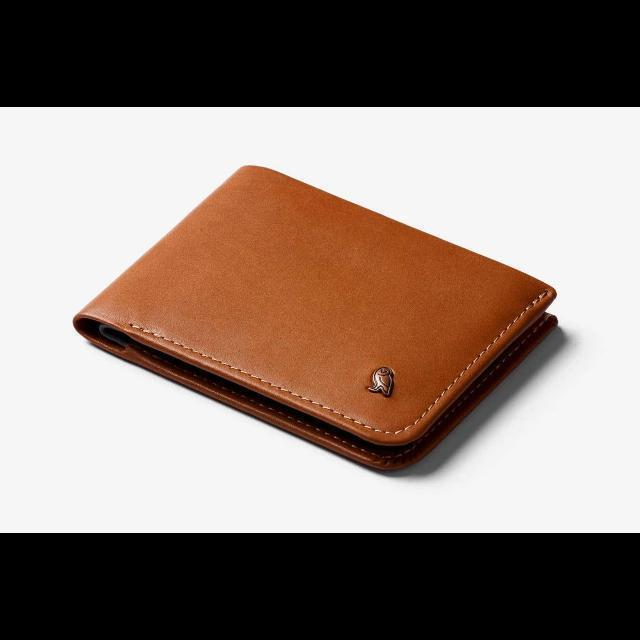wallet: (72, 155, 564, 473)
